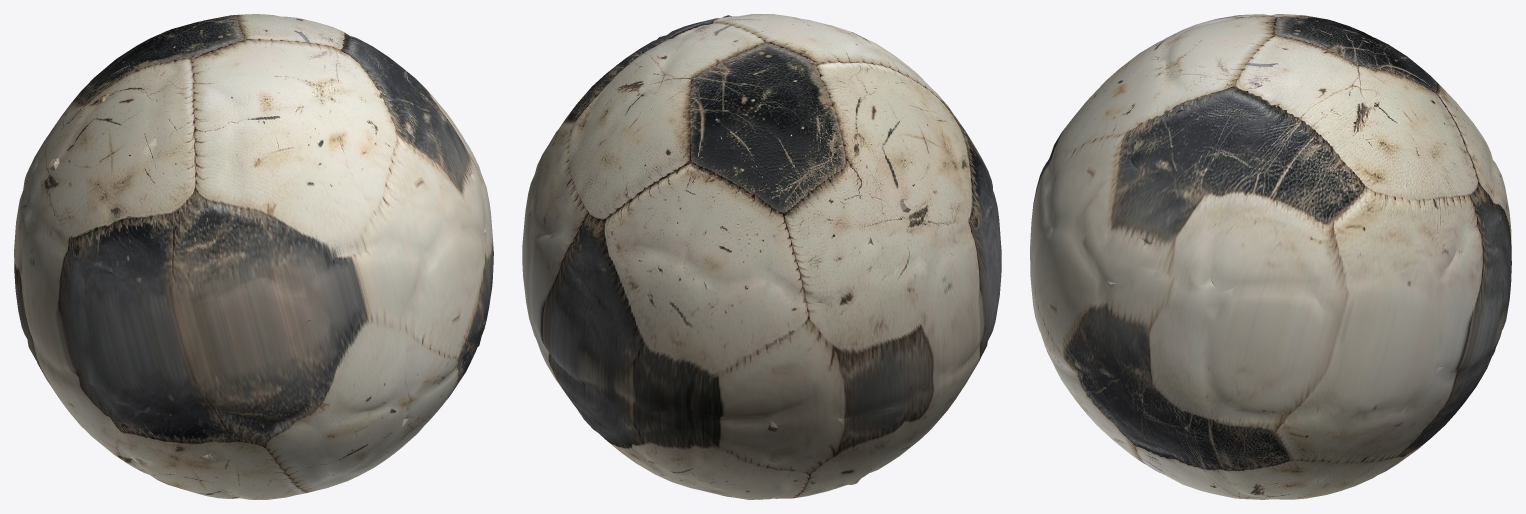
File: bola.glb
The picture shows the model from 3 angles, left to right: view 1: azimuth 30°, elevation 25°; view 2: azimuth 150°, elevation 25°; view 3: azimuth 270°, elevation 25°; orthographic projection.
Parts seen in each view (by area): view 1: bola; view 2: bola; view 3: bola.
Part boxes in pixels (x1=…): bola: x1=14, y1=14, x2=493, y2=499; bola: x1=522, y1=14, x2=1001, y2=499; bola: x1=1030, y1=14, x2=1511, y2=499.
Bounding box in the file's own units: 0.22 × 0.2198 × 0.2198.
1 material, 1 textured.
